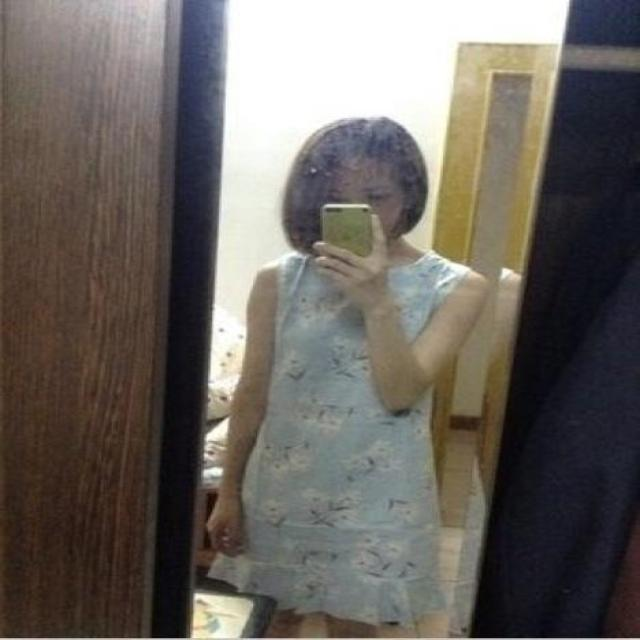vest dress: (206, 250, 469, 615)
